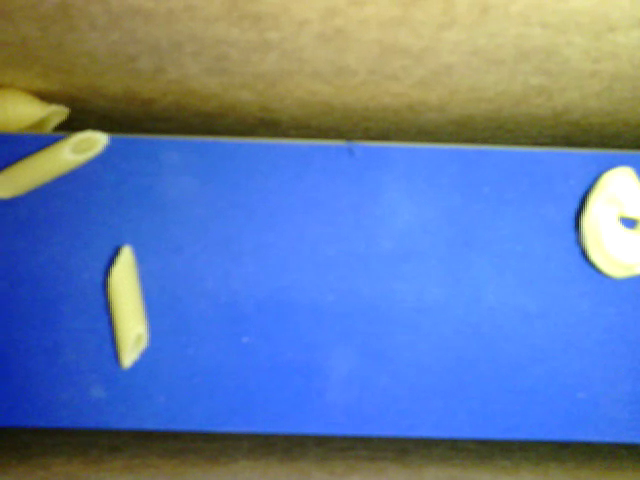penne: (1, 132, 107, 197), (106, 245, 151, 366)
shell: (1, 89, 73, 131)
tortellini: (574, 164, 639, 278)
